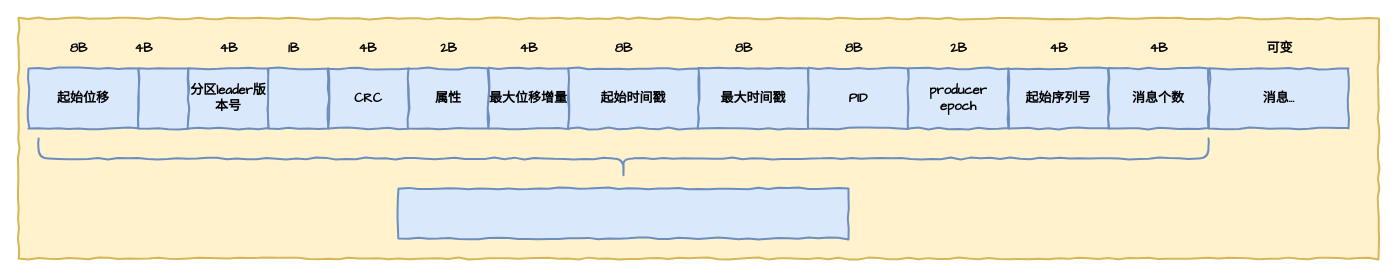
Image size: 1396x276. Some labels were removed from this diagram. The shapes that lost their labels are listed below. From the top down, each one's centre as x and y in pixels, then its label:
the point at 163,98: 长度
the point at 298,98: 版本
the point at 623,213: beatch overhead (61 bytes)
